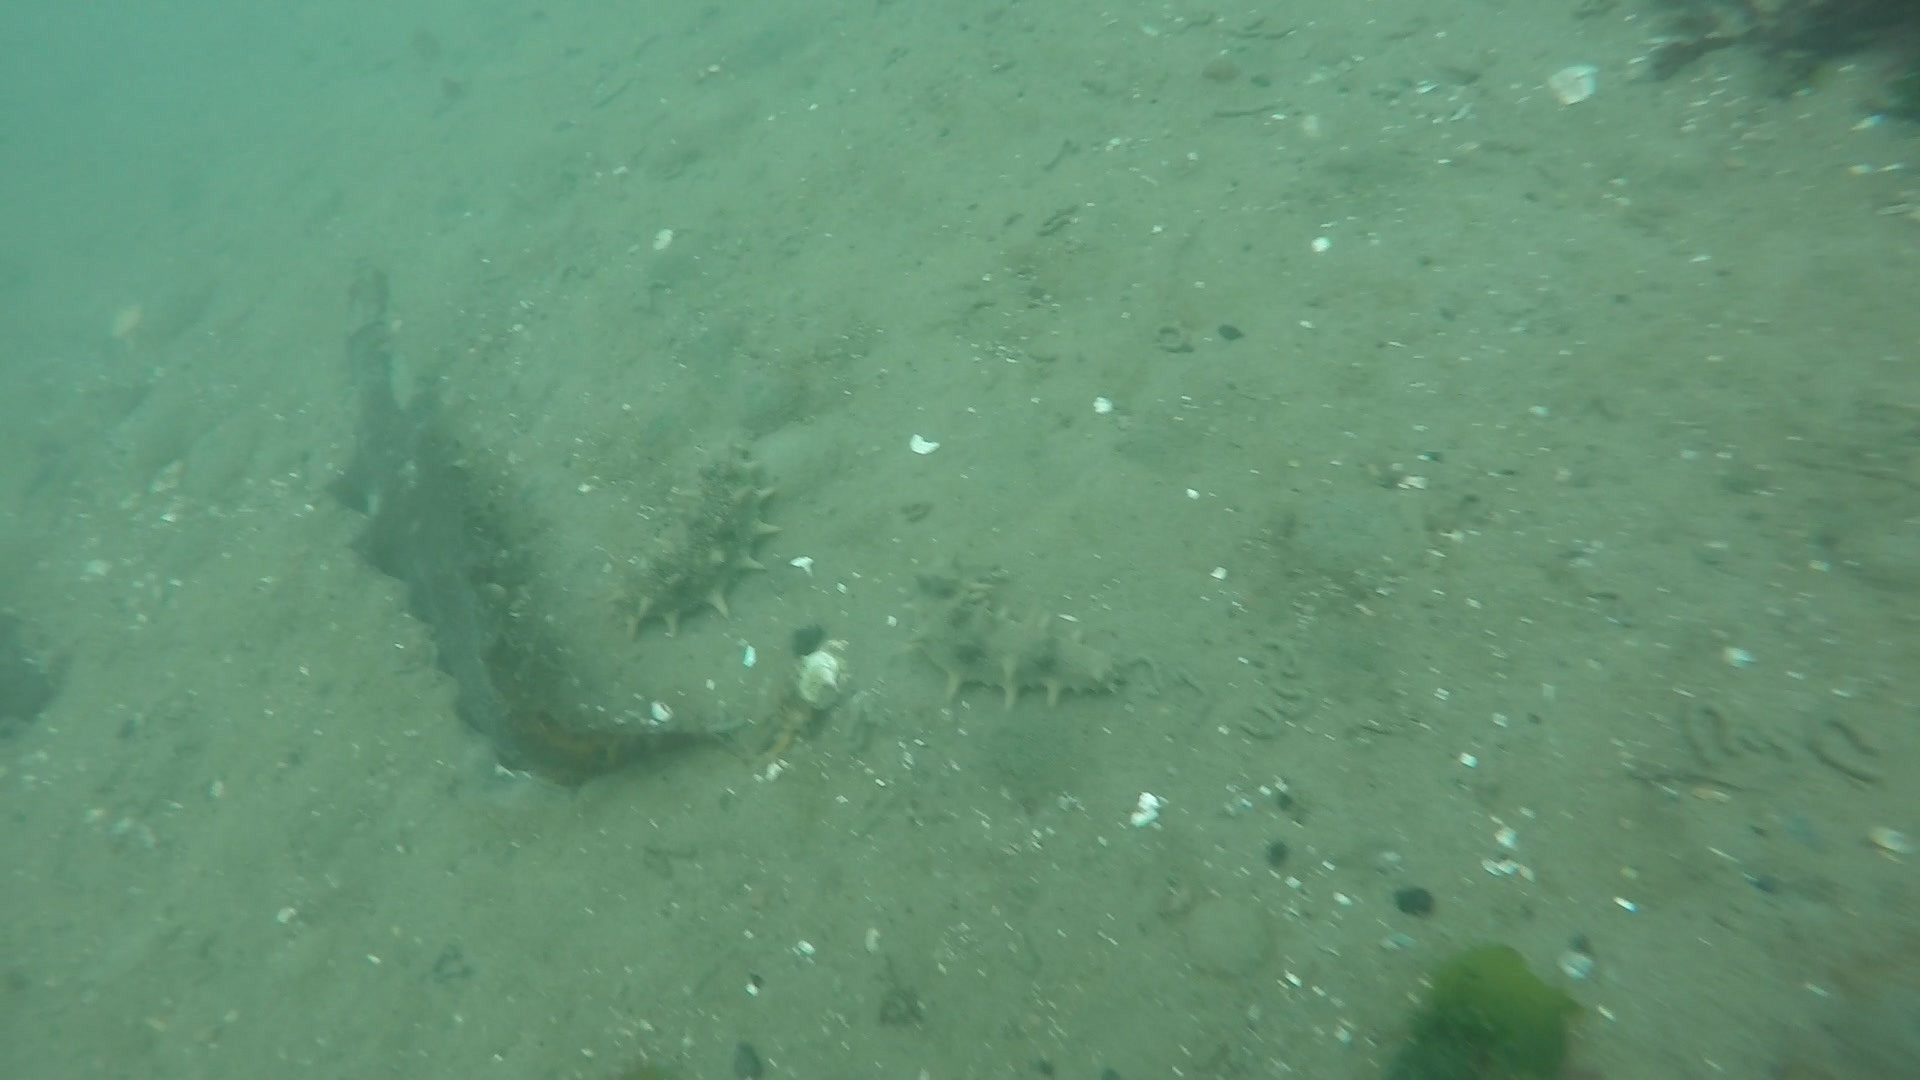holothurian: (899, 560, 1142, 705), (615, 446, 781, 641)
scallop: (800, 651, 855, 704)
